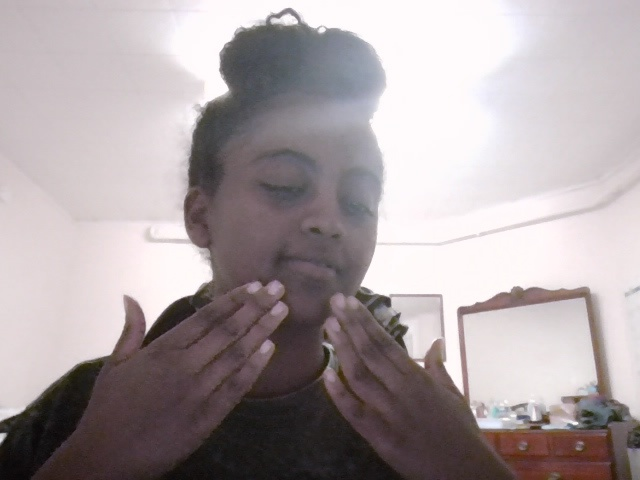Thanks: (49, 270, 512, 480)
